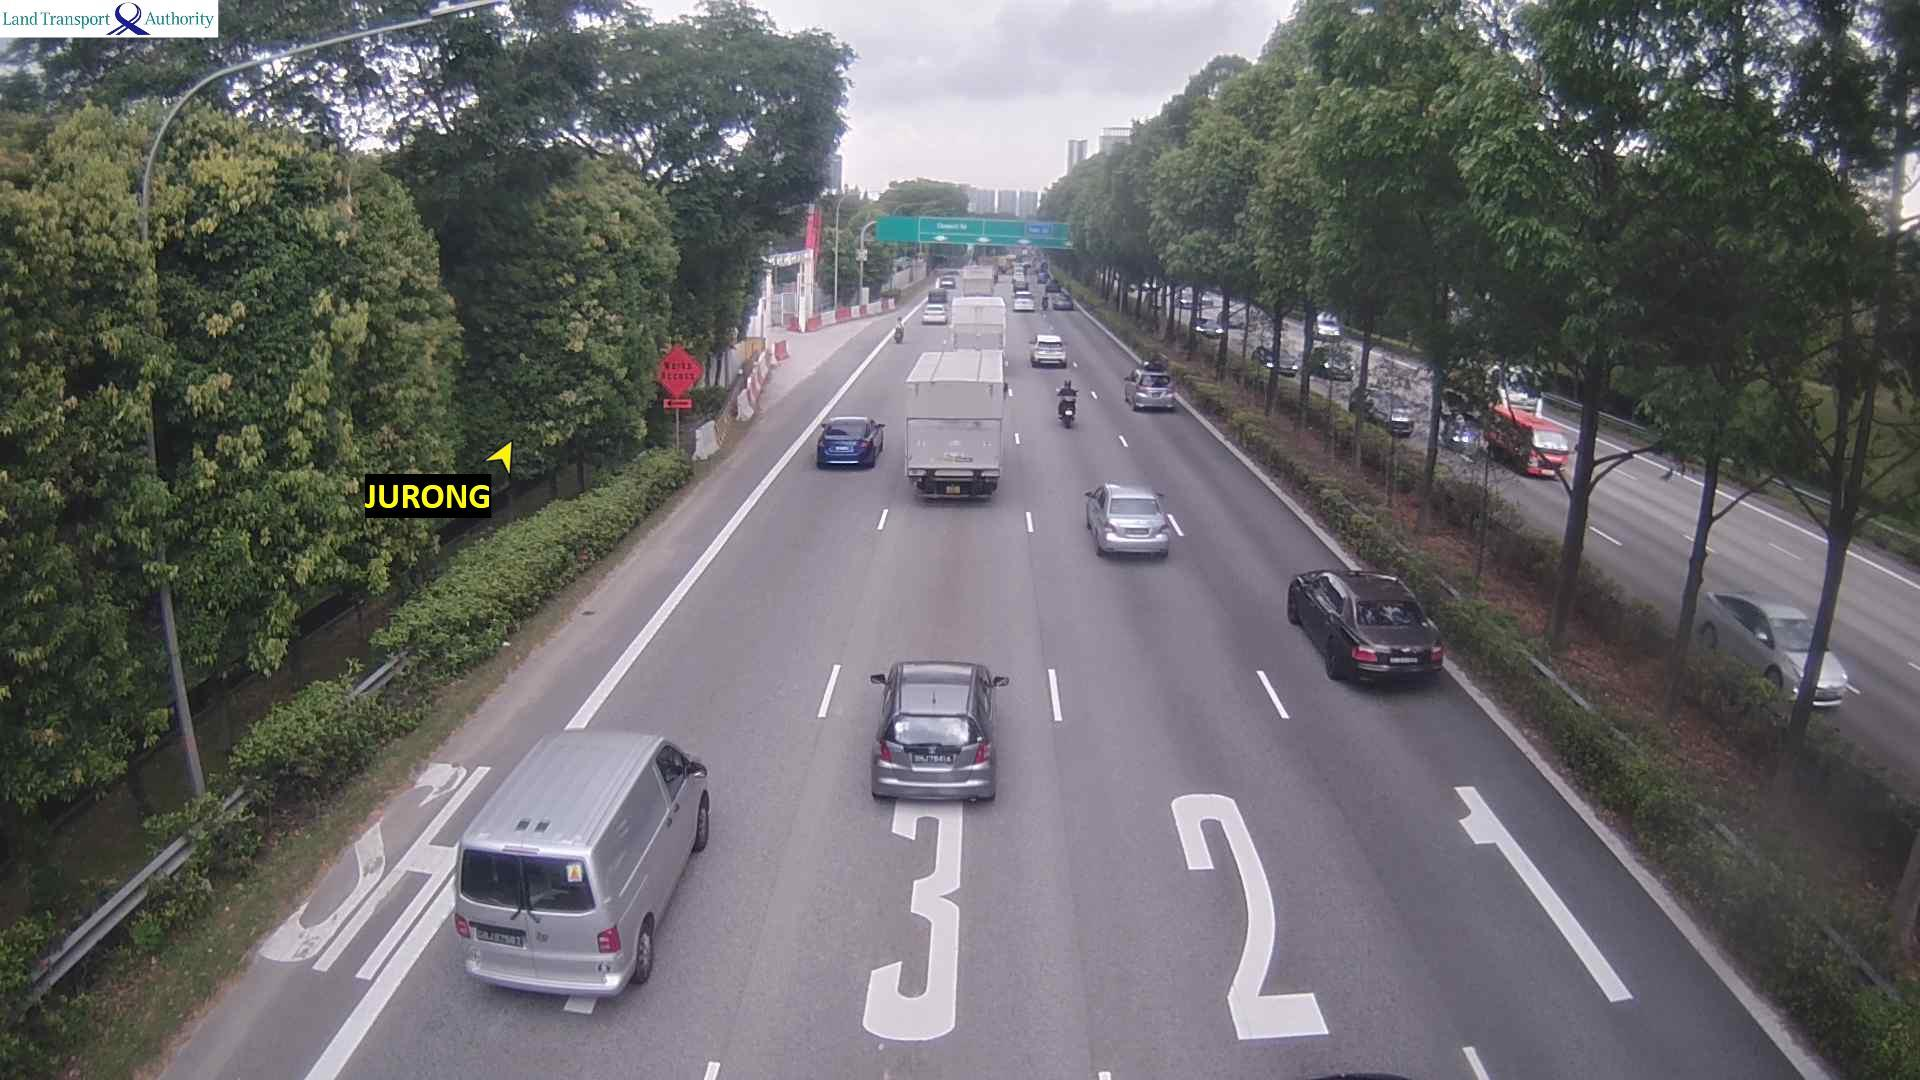incoming: (1750, 608, 1853, 707), (1516, 413, 1578, 484), (1365, 392, 1432, 440), (1258, 342, 1298, 378), (1318, 347, 1363, 378), (1312, 315, 1343, 344), (1190, 317, 1227, 340)
